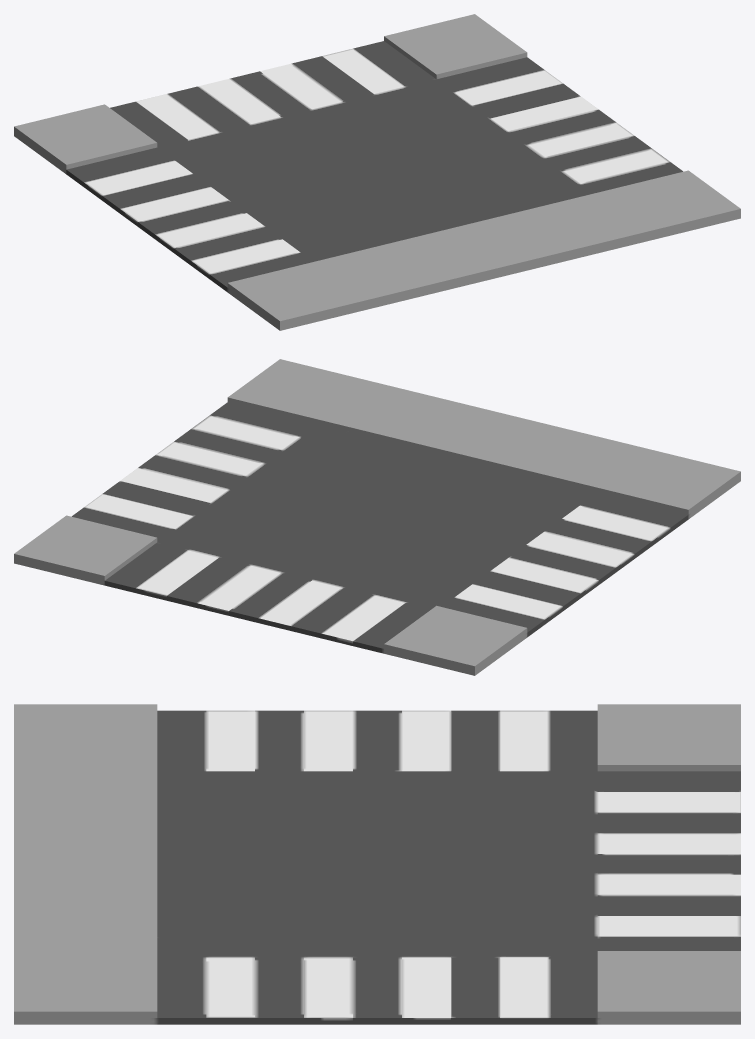
Rendered from RoadModule02.glb.
The picture shows the model from 3 angles, top to bottom: view 1: azimuth 30°, elevation 25°; view 2: azimuth 150°, elevation 25°; view 3: azimuth 270°, elevation 25°; orthographic projection. The views are drawn at different scales.
Visible parts, largest first — view 1: RoadModule02; view 2: RoadModule02; view 3: RoadModule02.
Boxes of the visible parts, <box> form: RoadModule02: <box>14,14,740,330</box>; RoadModule02: <box>14,359,740,675</box>; RoadModule02: <box>14,704,740,1024</box>.
Size of what is drawn, in the model's own units: 10 by 0.2 by 10.
Materials: 1 (1 with a texture image).
